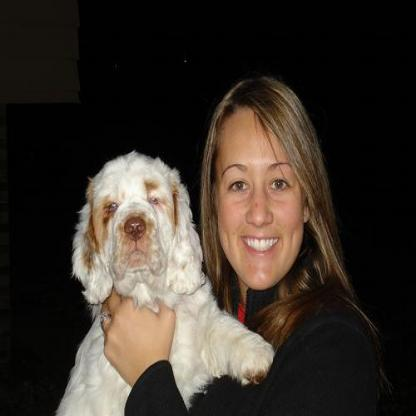clumber: (54, 148, 274, 413)
